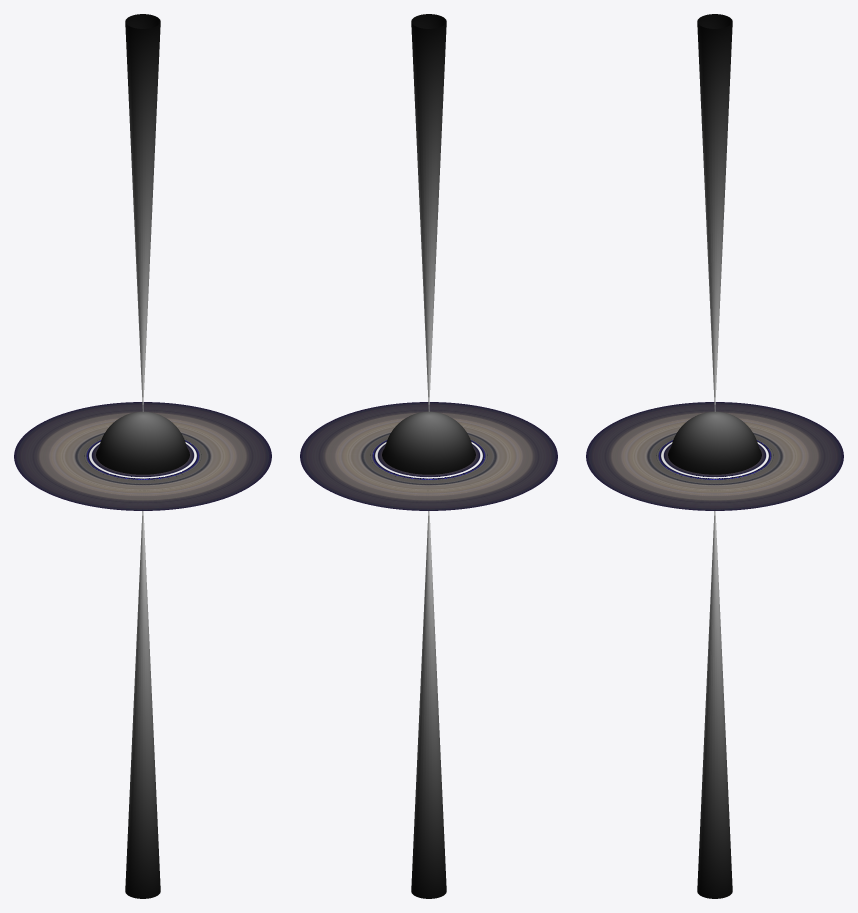
File: Agujero_negro.fbx
3 renders of one model, left to right at view 1: azimuth 30°, elevation 25°; view 2: azimuth 150°, elevation 25°; view 3: azimuth 270°, elevation 25°, orthographic.
Visible parts, largest first — view 1: Rings, ConeDown, ConeUP, Center2, Rings Down; view 2: Rings, ConeDown, ConeUP, Center2, Rings Down; view 3: Rings, ConeDown, ConeUP, Center2, Rings Down.
Part boxes in pixels (x1,y1,x2,y2): Rings: (14, 402, 271, 510); ConeDown: (125, 14, 160, 411); ConeUP: (125, 511, 160, 898); Center2: (96, 411, 189, 474); Rings Down: (14, 402, 241, 480); Rings: (300, 402, 557, 510); ConeDown: (411, 14, 446, 411); ConeUP: (411, 511, 446, 898); Center2: (382, 411, 475, 474); Rings Down: (300, 438, 554, 510); Rings: (586, 402, 829, 510); ConeDown: (697, 14, 732, 411); ConeUP: (697, 511, 732, 898); Center2: (668, 411, 761, 474); Rings Down: (706, 402, 843, 510).
Size of the model in its own units: 2904 by 10810 by 2904.
Materials: 4 (4 with a texture image).
